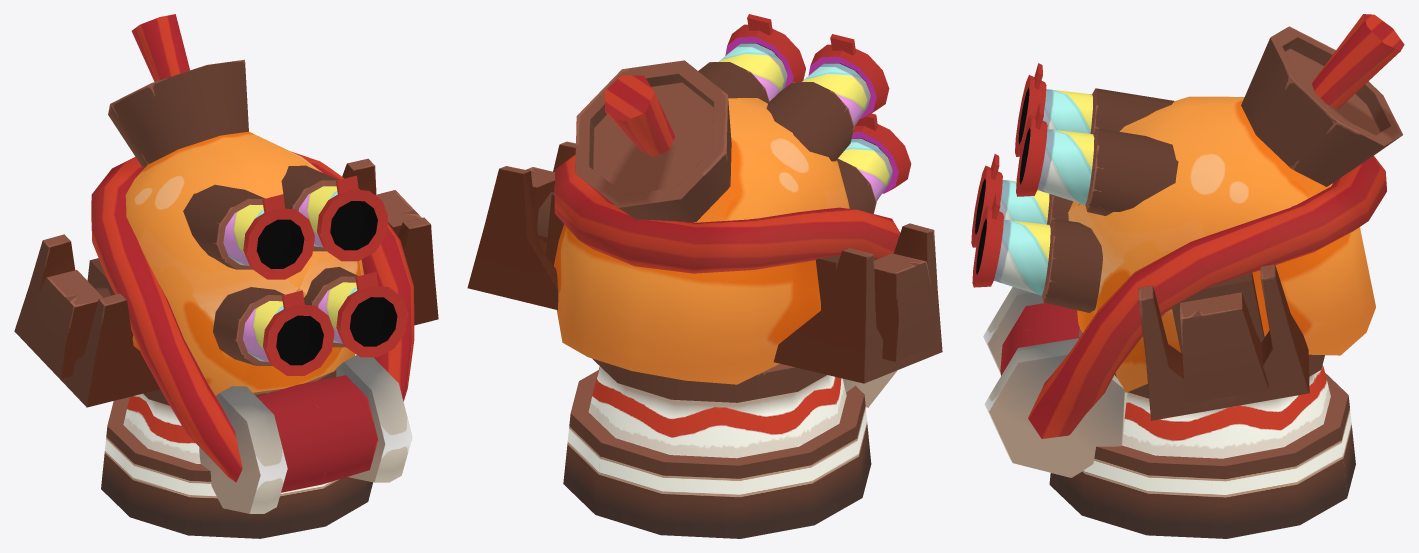
Rendered from tower2.glb.
The picture shows the model from 3 angles, left to right: view 1: azimuth 30°, elevation 25°; view 2: azimuth 150°, elevation 25°; view 3: azimuth 270°, elevation 25°; orthographic projection. The views are drawn at different scales.
Parts seen in each view (by area): view 1: canon, base; view 2: canon, base; view 3: canon, base.
Boxes of the visible parts, x1,y1,x2,y2 form: canon: (14,14,438,513); base: (101,370,372,538); canon: (467,14,942,407); base: (563,358,871,538); canon: (971,14,1404,477); base: (1049,327,1355,538).
Size of the model in its own units: 2.35 by 2.47 by 2.12.
Materials: 4 (4 with a texture image).
